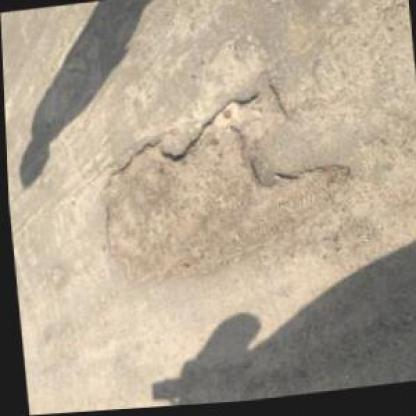pothole: (84, 65, 358, 293)
